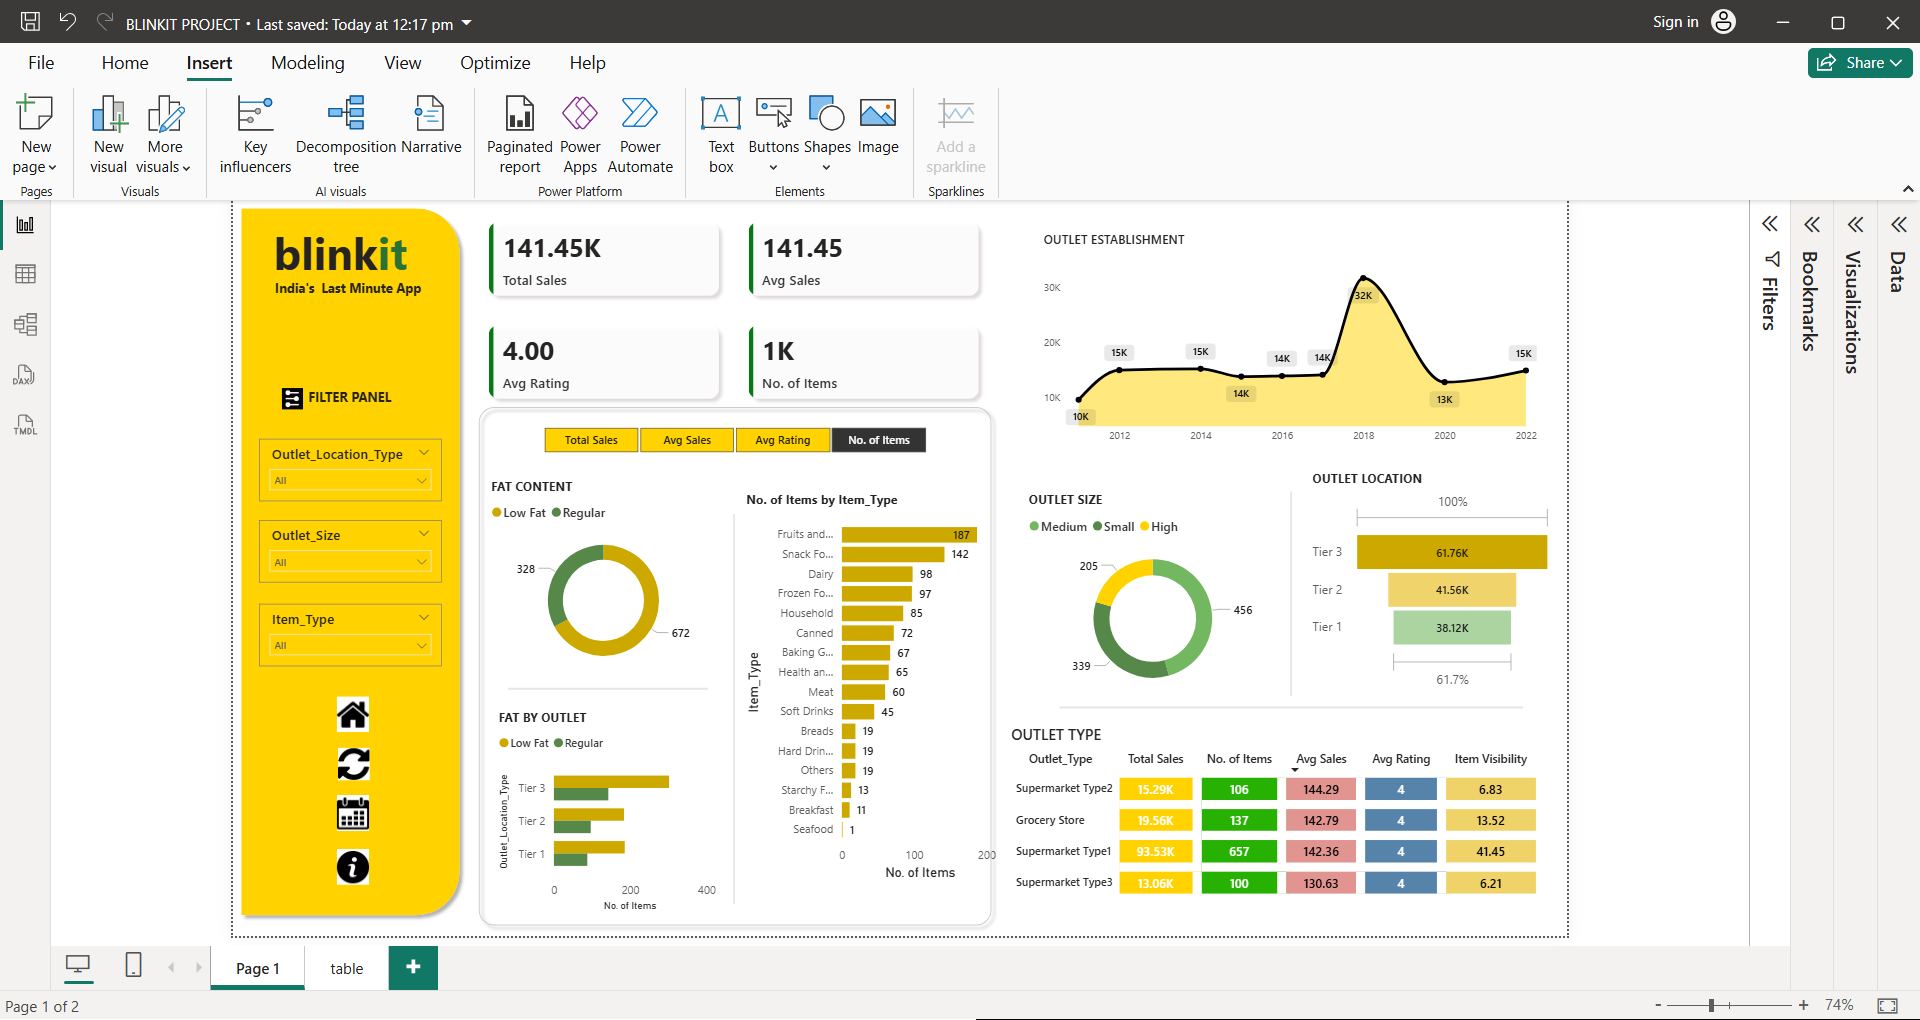

The page's visual inventory and layout, read from the dashboard file:
{"tool":"powerbi","page":{"name":"Page 1","canvas":[1450,800],"ordinal":0},"visuals":[{"type":"shape","box":[0,0,255.3,786.5],"z":0},{"type":"textbox","box":[39.4,19,205.2,76.1],"z":1000},{"type":"textbox","box":[40.8,81.5,175.3,40.8],"z":2000},{"type":"cardVisual","fields":{"Data":["Blinket_clean_dataset.Total Sales","Blinket_clean_dataset.Avg Sales","Blinket_clean_dataset.Avg Rating","Blinket_clean_dataset.No. of Items"]},"box":[253.7,0,580,241.1],"z":3000},{"type":"barChart","fields":{"Y":["Blinket_clean_dataset.No. of Items"],"Category":["Blinket_clean_dataset.Item_Type"]},"box":[553,316.6,294.8,428],"z":4000},{"type":"clusteredBarChart","title":"FAT BY OUTLET","fields":{"Y":["Blinket_clean_dataset.No. of Items"],"Category":["Blinket_clean_dataset.Outlet_Location_Type"],"Series":["Blinket_clean_dataset.Item_Fat_Content"]},"box":[284,553,245.9,225.5],"z":5000},{"type":"slicer","fields":{"Values":["Metrix.Metrix"]},"box":[312.5,240.5,464.7,40.8],"z":6000},{"type":"donutChart","title":"FAT CONTENT","fields":{"Y":["Blinket_clean_dataset.No. of Items"],"Category":["Blinket_clean_dataset.Item_Fat_Content"]},"box":[275.8,301.6,254.1,220.1],"z":7000},{"type":"shape","box":[298.9,516.3,217.4,29.9],"z":8000},{"type":"shape","box":[530.1,340.4,29.5,424.4],"z":9000},{"type":"lineChart","title":"OUTLET ESTABLISHMENT","fields":{"Category":["Blinket_clean_dataset.Outlet_Establishment_Year"],"Y":["Blinket_clean_dataset.Total Sales"]},"box":[876.4,34,546.2,239.1],"z":10000},{"type":"donutChart","title":"OUTLET SIZE","fields":{"Y":["Blinket_clean_dataset.No. of Items"],"Category":["Blinket_clean_dataset.Outlet_Size"]},"box":[860.1,316.6,279.9,229.6],"z":11000},{"type":"funnel","title":"OUTLET LOCATION","fields":{"Y":["Sum(Blinket_clean_dataset.Sales)"],"Category":["Blinket_clean_dataset.Outlet_Location_Type"]},"box":[1168.5,293.5,270.4,243.2],"z":12000},{"type":"shape","box":[1131.8,316.6,36.7,222.8],"z":13000},{"type":"shape","box":[898.1,536.7,504.1,29.9],"z":14000},{"type":"pivotTable","title":"OUTLET TYPE","fields":{"Rows":["Blinket_clean_dataset.Outlet_Type"],"Values":["Blinket_clean_dataset.Total Sales","Blinket_clean_dataset.No. of Items","Blinket_clean_dataset.Avg Sales","Blinket_clean_dataset.Avg Rating","Sum(Blinket_clean_dataset.Item_Visibility)"]},"box":[841,569.3,597.8,217.4],"z":15000},{"type":"slicer","fields":{"Values":["Blinket_clean_dataset.Outlet_Location_Type"]},"box":[28.5,259.5,198.4,67.9],"z":16000},{"type":"slicer","fields":{"Values":["Blinket_clean_dataset.Outlet_Size"]},"box":[28.5,347.8,198.4,67.9],"z":17000},{"type":"slicer","fields":{"Values":["Blinket_clean_dataset.Item_Type"]},"box":[28.5,438.9,198.4,67.9],"z":18000},{"type":"textbox","box":[39.4,199.7,175.3,40.8],"z":19000},{"type":"image","box":[53,178,23.1,76.1],"z":20000},{"type":"shape","box":[258.5,215.9,575.3,581.6],"z":21000},{"type":"actionButton","box":[112.8,539.4,35.3,39.4],"z":22000},{"type":"actionButton","box":[112.8,646.7,35.3,39.4],"z":23000},{"type":"actionButton","box":[112.8,705.2,35.3,39.4],"z":24000},{"type":"actionButton","box":[113.5,595.8,34.7,36.2],"z":25000}]}

Visuals, with their boxes on the page's 1450x800 design canvas (x1, y1, x2, y2). These are canvas units, not pixel positions in the 1920x1020 screenshot, which may show the page scaled, cropped or inside an application window:
shape: bbox=[0, 0, 255, 786]
textbox: bbox=[39, 19, 245, 95]
textbox: bbox=[41, 82, 216, 122]
cardVisual - Blinket_clean_dataset.Total Sales x Blinket_clean_dataset.Avg Sales: bbox=[254, 0, 834, 241]
barChart - Blinket_clean_dataset.No. of Items x Blinket_clean_dataset.Item_Type: bbox=[553, 317, 848, 745]
"FAT BY OUTLET" clusteredBarChart: bbox=[284, 553, 530, 778]
slicer - Metrix.Metrix: bbox=[312, 240, 777, 281]
"FAT CONTENT" donutChart: bbox=[276, 302, 530, 522]
shape: bbox=[299, 516, 516, 546]
shape: bbox=[530, 340, 560, 765]
"OUTLET ESTABLISHMENT" lineChart: bbox=[876, 34, 1423, 273]
"OUTLET SIZE" donutChart: bbox=[860, 317, 1140, 546]
"OUTLET LOCATION" funnel: bbox=[1168, 294, 1439, 537]
shape: bbox=[1132, 317, 1168, 539]
shape: bbox=[898, 537, 1402, 567]
"OUTLET TYPE" pivotTable: bbox=[841, 569, 1439, 787]
slicer - Blinket_clean_dataset.Outlet_Location_Type: bbox=[28, 260, 227, 327]
slicer - Blinket_clean_dataset.Outlet_Size: bbox=[28, 348, 227, 416]
slicer - Blinket_clean_dataset.Item_Type: bbox=[28, 439, 227, 507]
textbox: bbox=[39, 200, 215, 240]
image: bbox=[53, 178, 76, 254]
shape: bbox=[258, 216, 834, 798]
actionButton: bbox=[113, 539, 148, 579]
actionButton: bbox=[113, 647, 148, 686]
actionButton: bbox=[113, 705, 148, 745]
actionButton: bbox=[114, 596, 148, 632]
